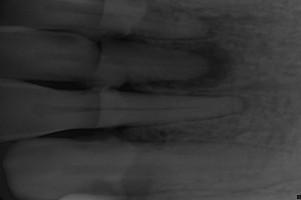Furcation Involvement: (150, 42, 235, 91), (237, 96, 252, 115)
